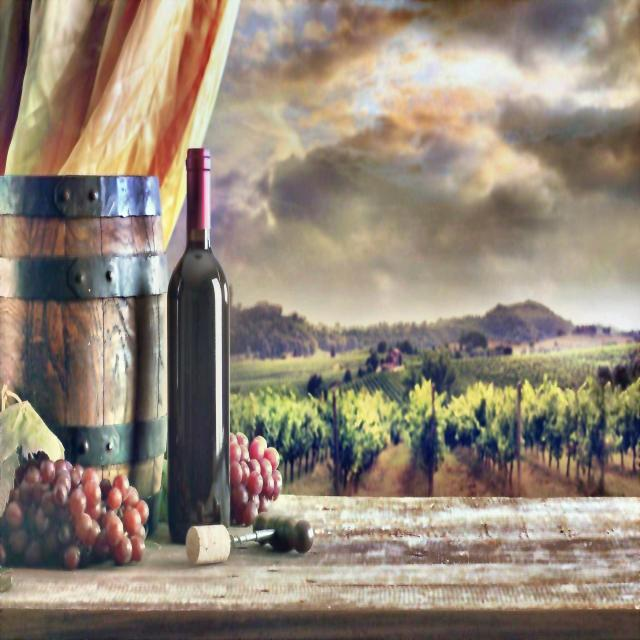cork: (182, 517, 236, 572)
